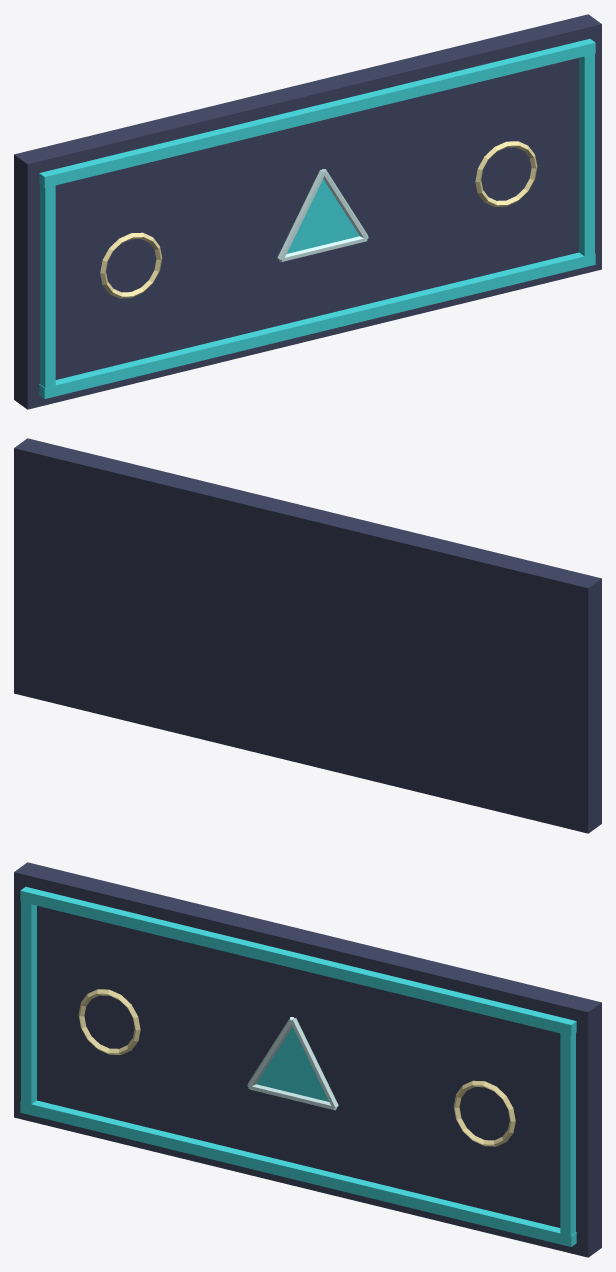
The model's file is letrero_cian.glb.
3 renders of one model, top to bottom at view 1: azimuth 30°, elevation 25°; view 2: azimuth 150°, elevation 25°; view 3: azimuth 330°, elevation 25°, orthographic.
Visible parts, largest first — view 1: letrero_cian; view 2: letrero_cian; view 3: letrero_cian.
Part boxes in pixels (left/top/right/bottom): letrero_cian: left=14, top=14, right=601, bottom=409; letrero_cian: left=14, top=438, right=601, bottom=833; letrero_cian: left=14, top=862, right=601, bottom=1257.
Bounding box in the file's own units: 4.9 × 2 × 0.3442.
